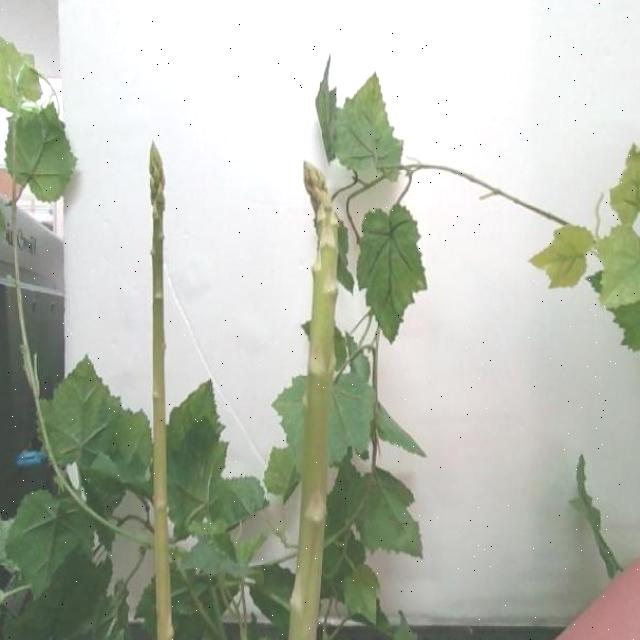aspargus: (287, 162, 340, 640), (146, 145, 169, 640)
